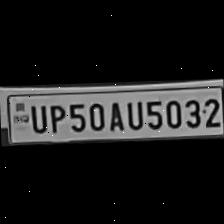0: (84, 98, 106, 131), (162, 96, 182, 128)
2: (200, 94, 222, 127)
3: (182, 94, 200, 128)
5: (64, 99, 86, 132), (142, 96, 162, 129)
A: (105, 98, 124, 132)
P: (46, 100, 64, 134)
U: (27, 102, 46, 134), (124, 97, 142, 130)
